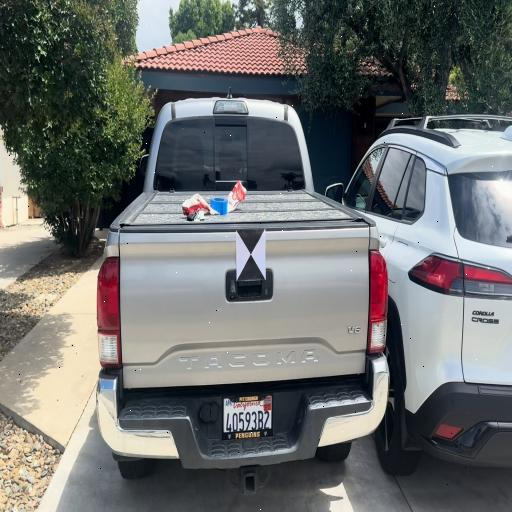target: (237, 230, 267, 280)
